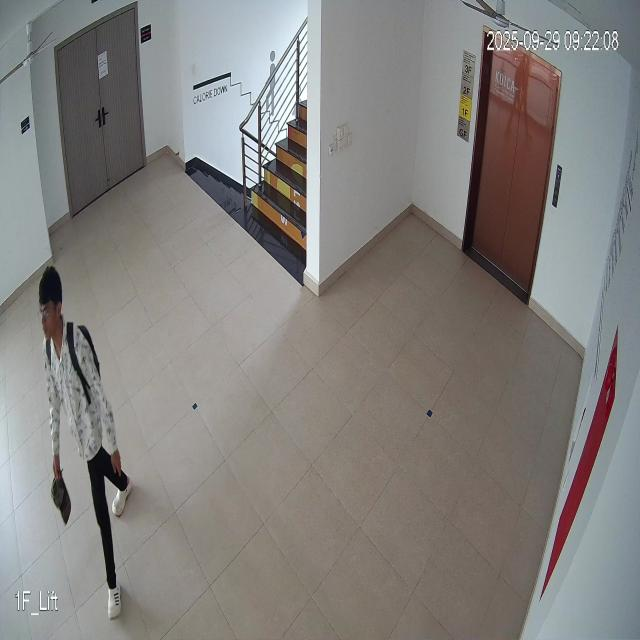face: (37, 263, 64, 348)
